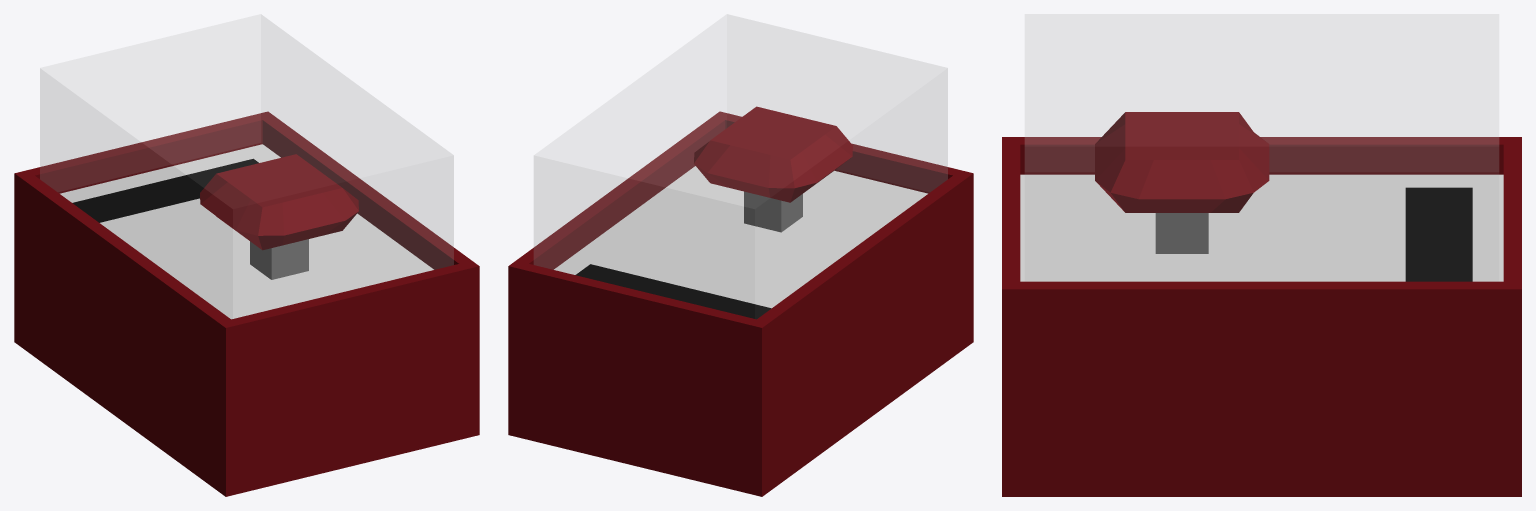
Rendered from BotonStop.fbx.
The picture shows the model from 3 angles, left to right: view 1: azimuth 30°, elevation 25°; view 2: azimuth 150°, elevation 25°; view 3: azimuth 270°, elevation 25°; orthographic projection. The views are drawn at different scales.
Parts seen in each view (by area): view 1: Cube, Cube.003, Cube.002, Cube.001; view 2: Cube, Cube.003, Cube.002, Cube.001; view 3: Cube, Cube.003, Cube.002, Cube.001.
Boxes of the visible parts, <box> form: Cube: <box>14,111,479,496</box>; Cube.003: <box>40,14,453,318</box>; Cube.002: <box>200,154,358,250</box>; Cube.001: <box>250,239,308,279</box>; Cube: <box>508,111,973,496</box>; Cube.003: <box>534,14,947,318</box>; Cube.002: <box>694,106,852,202</box>; Cube.001: <box>744,191,802,232</box>; Cube: <box>1002,137,1521,496</box>; Cube.003: <box>1025,14,1498,280</box>; Cube.002: <box>1095,112,1269,212</box>; Cube.001: <box>1155,213,1208,253</box>.
Size of the model in its own units: 20.44 by 21.33 by 29.5.
